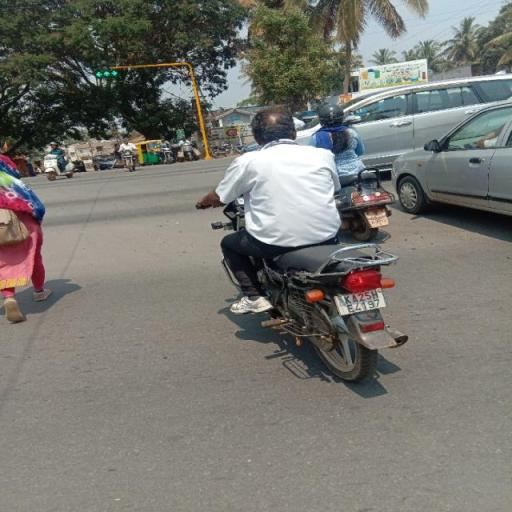bike: (192, 104, 414, 383)
numberplate: (332, 281, 389, 319)
withouthelmet: (248, 104, 296, 145)
